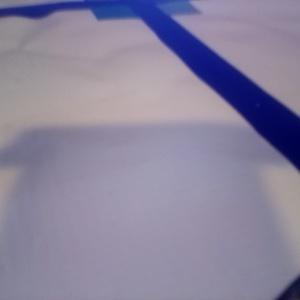bottom_left: (91, 1, 157, 20)
bottom_right: (138, 1, 200, 15)
